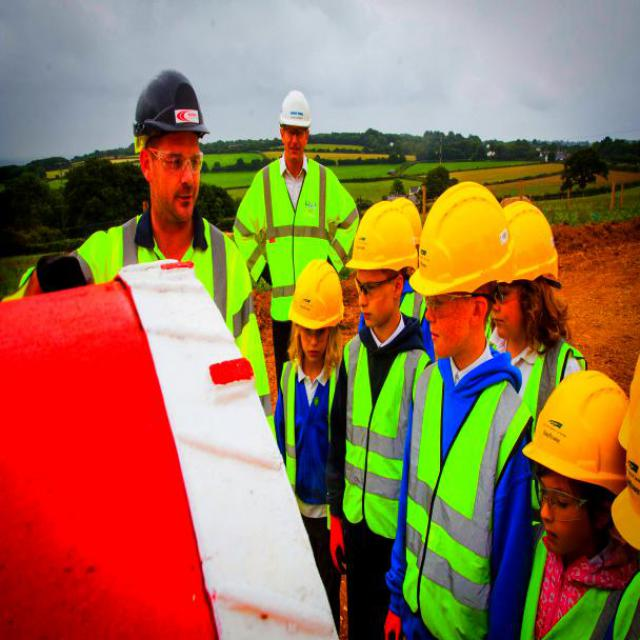helmet: (514, 353, 622, 554), (490, 169, 575, 365), (420, 186, 513, 355), (125, 62, 211, 238), (358, 195, 420, 337), (275, 262, 348, 369), (272, 84, 314, 178)
vest: (413, 368, 501, 628), (339, 340, 424, 526), (520, 526, 634, 639), (242, 183, 357, 269), (271, 365, 304, 497)
